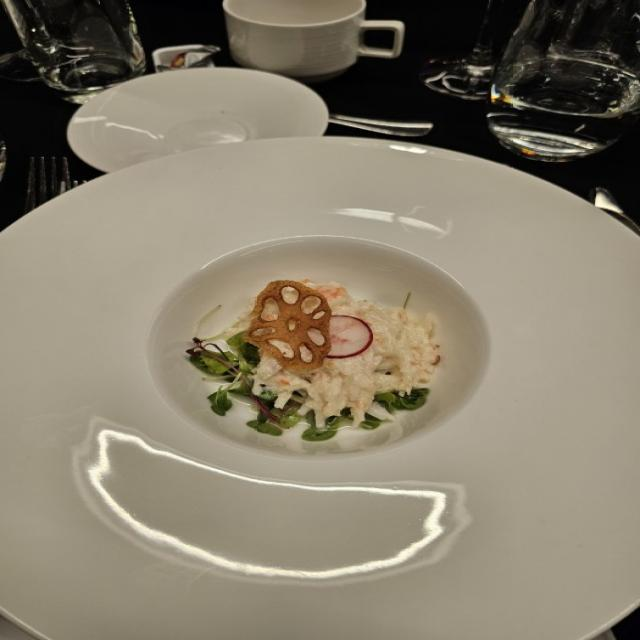Bowl: (145, 233, 491, 459)
Cup: (485, 0, 639, 163), (1, 0, 148, 104), (220, 0, 404, 80)
Plate: (0, 135, 639, 639), (65, 66, 329, 174)
